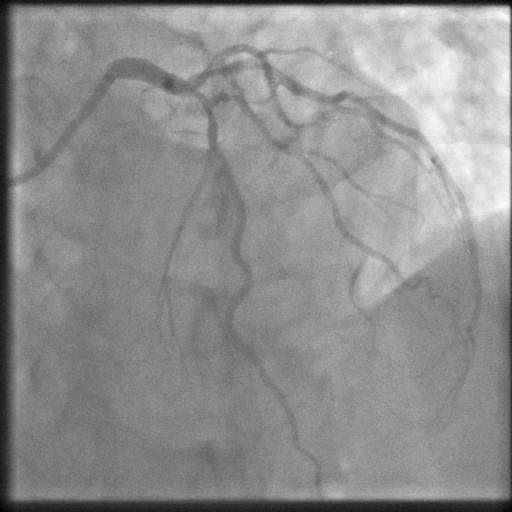Stenosis: (188, 86, 215, 121)
